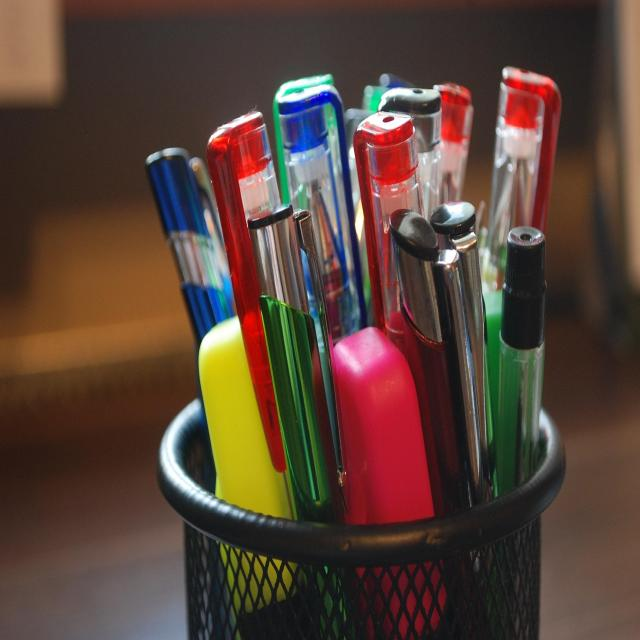pen: (237, 189, 357, 535), (489, 215, 557, 482)
